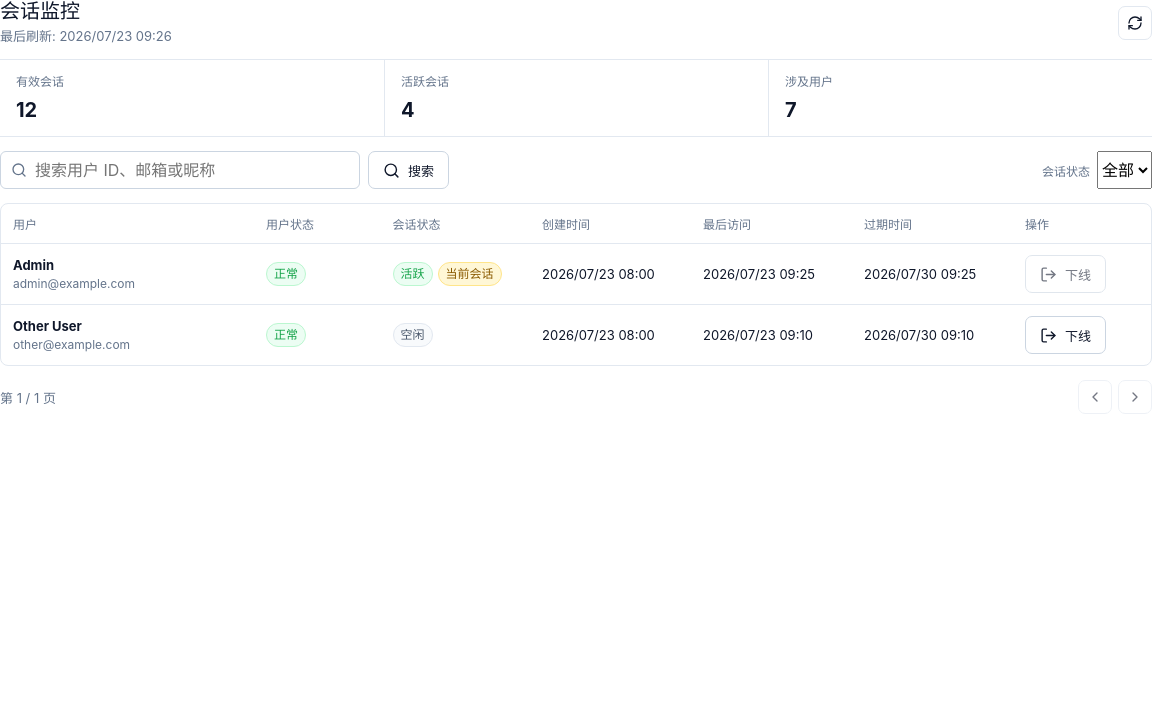
Test case: SessionMonitoringPage › keeps the dialog open when current-session protection is returned by the API
Click the button with aria-label "下线 Other User 的会话". click: (1066, 335)
box: [1025, 316, 1106, 354]
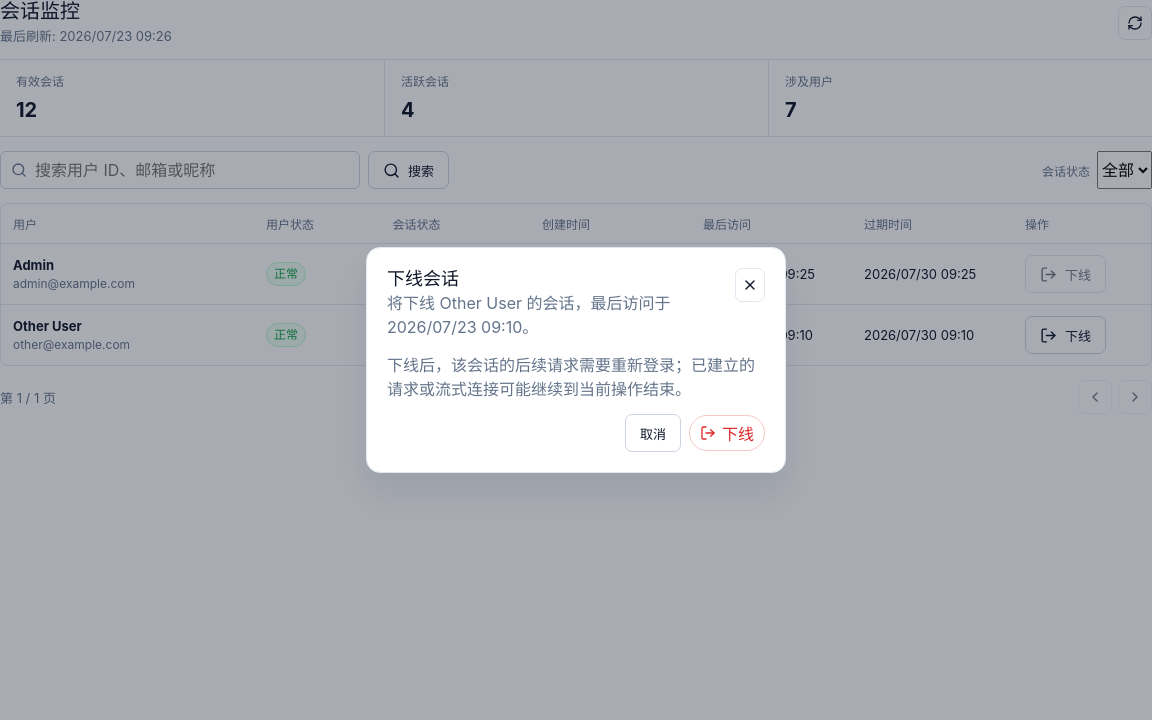
Click the button "下线". click: (727, 433)
box: [689, 415, 765, 451]
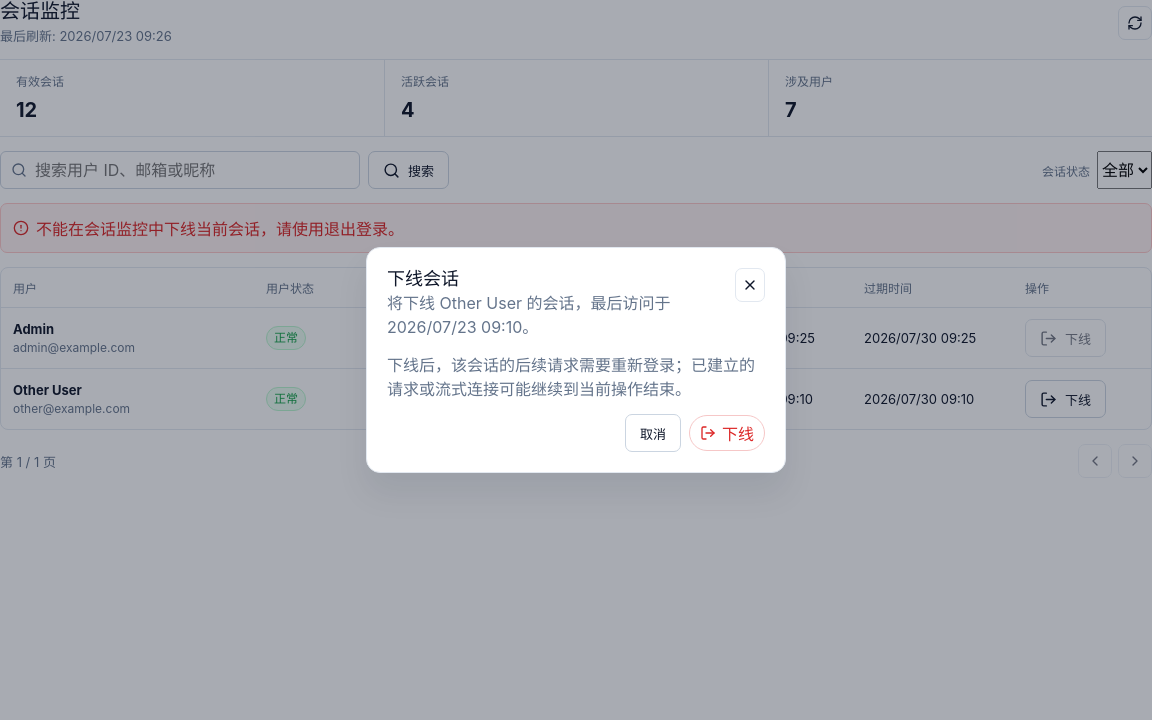
Expected: the dialog is shown, [366, 247, 786, 473]
Expected: the message shows "不能在会话监控中下线当前会话", [36, 219, 404, 239]
